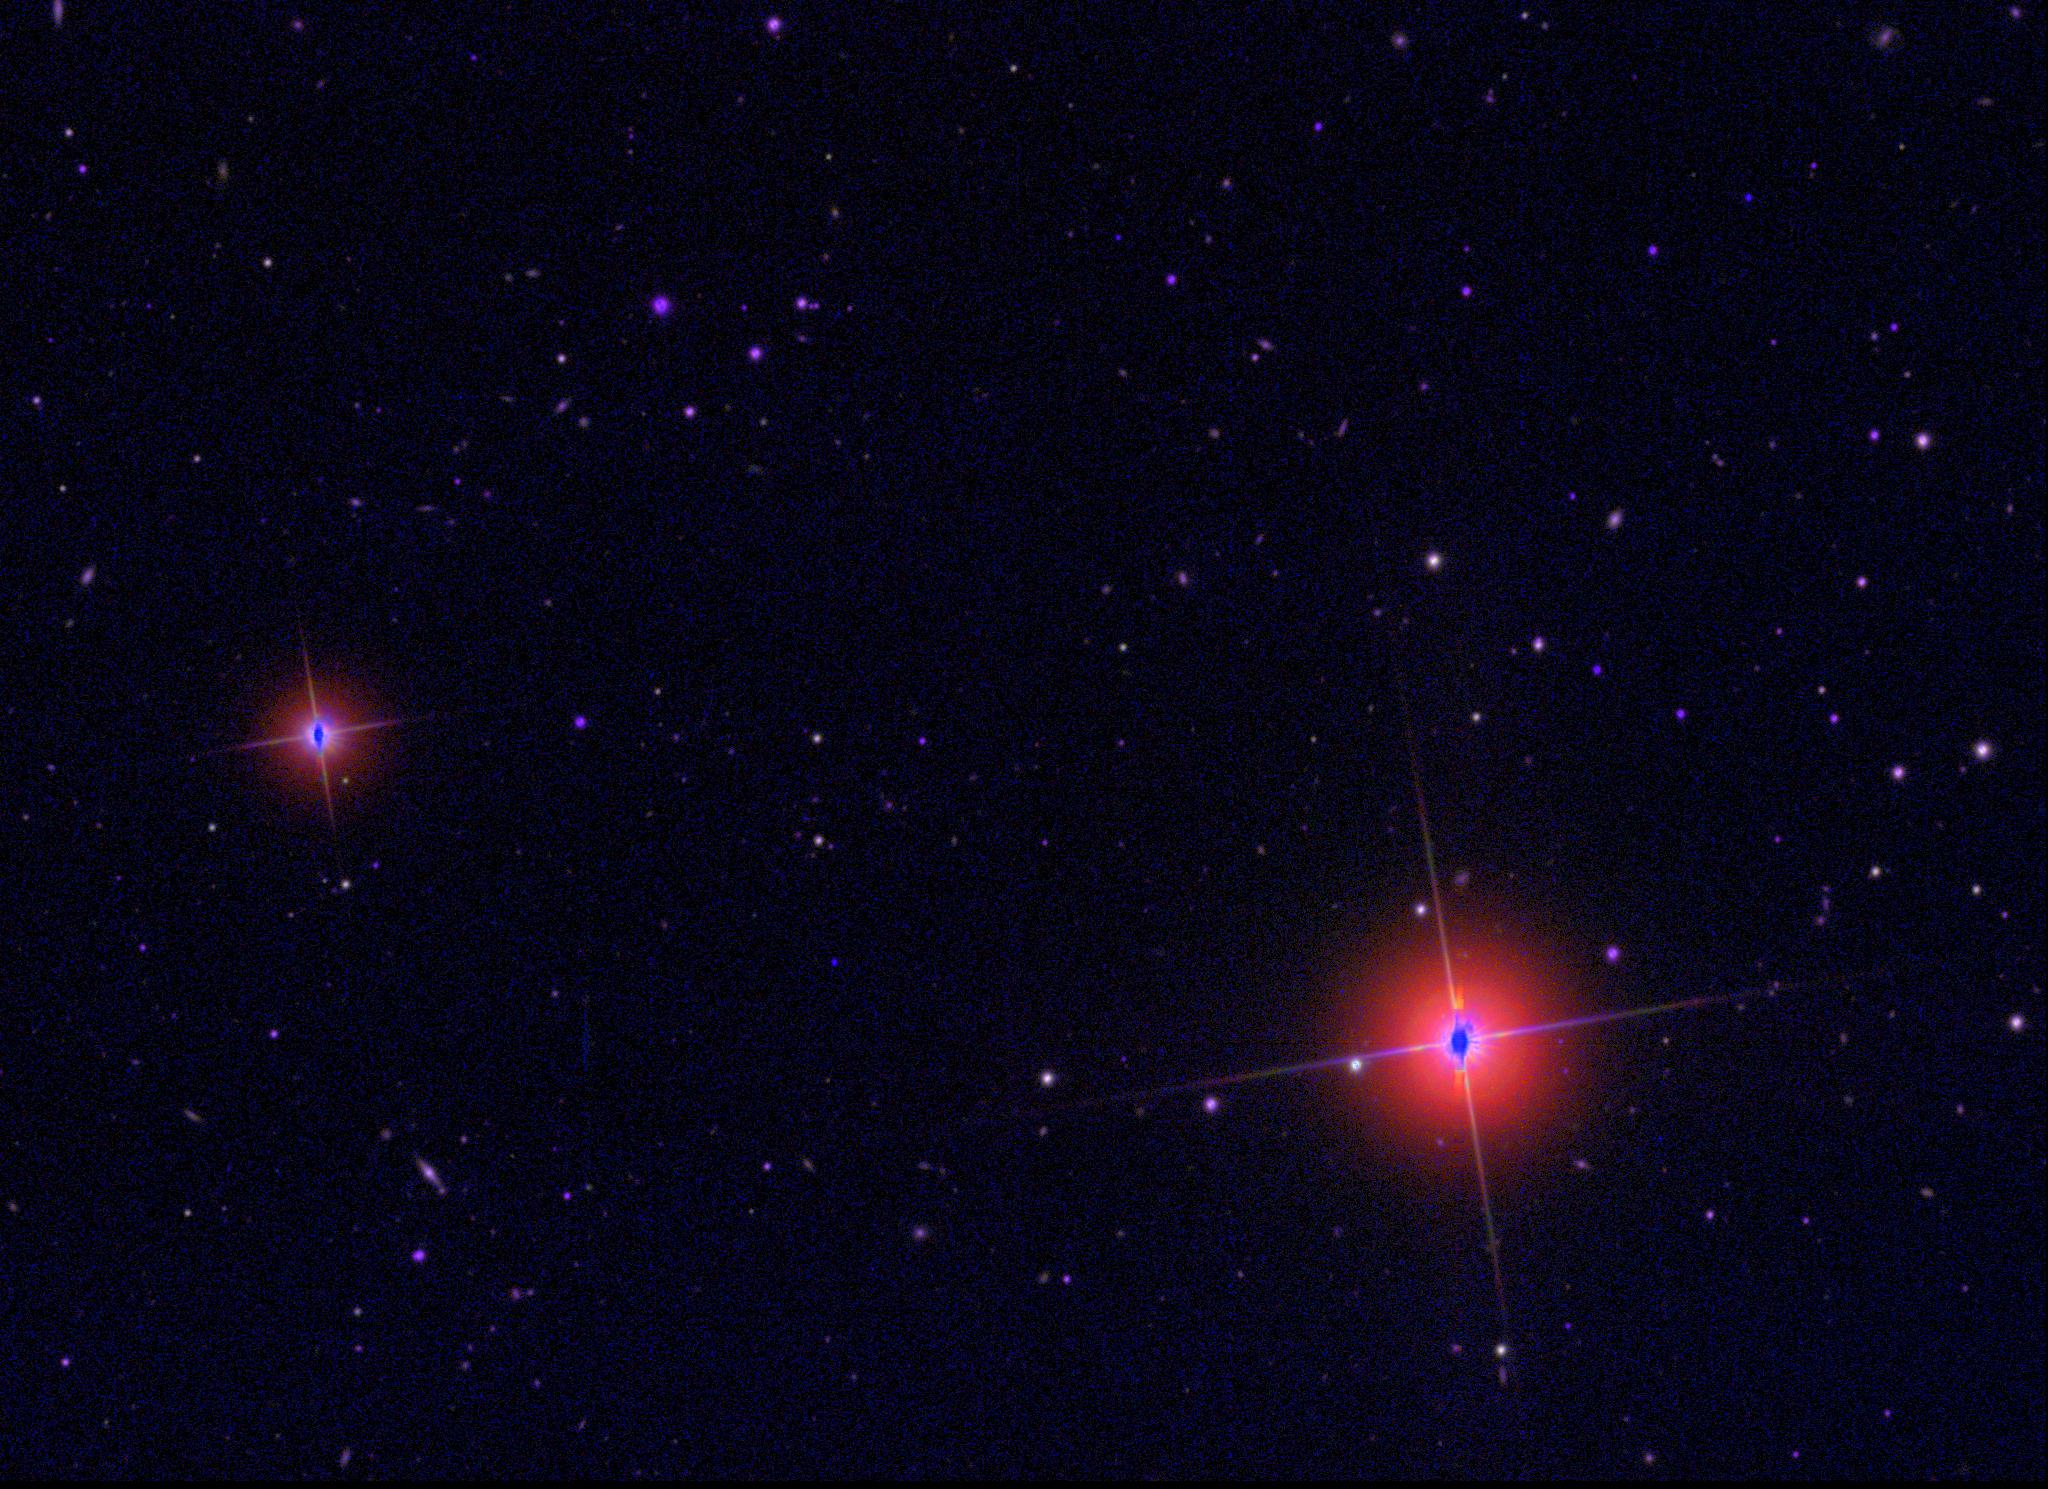L: (830, 954, 844, 967)
